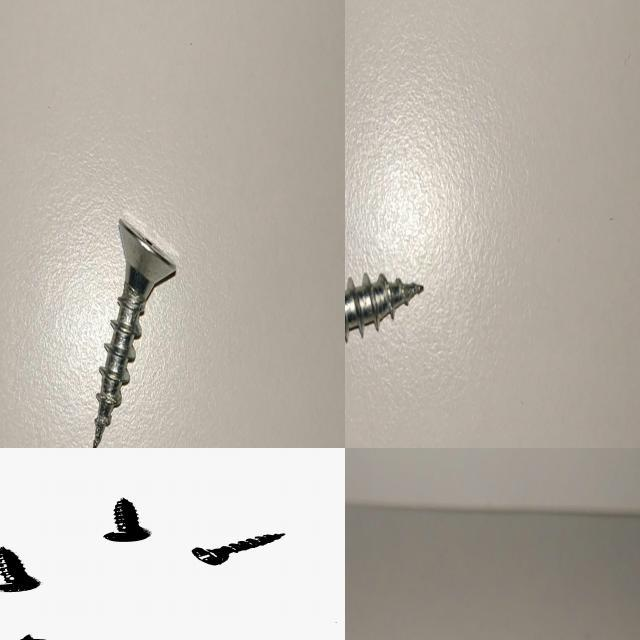Screw: (93, 218, 177, 448), (345, 273, 424, 341), (191, 533, 285, 565), (102, 498, 150, 542), (0, 547, 39, 592)
